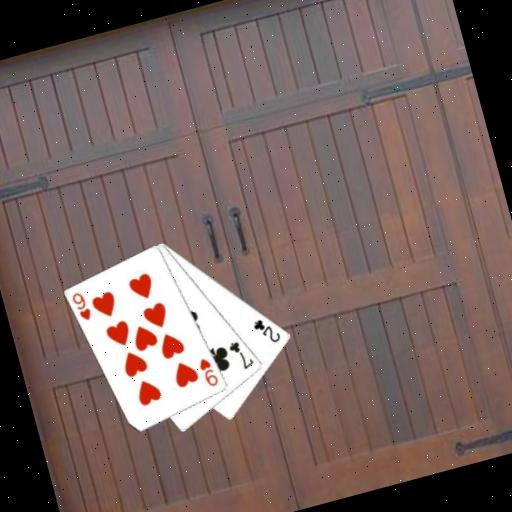2C: (249, 311, 284, 349)
7C: (225, 335, 257, 374)
9H: (194, 353, 221, 390), (68, 287, 95, 324)
